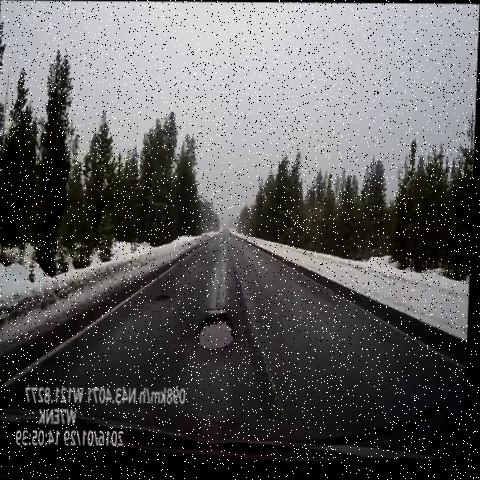pothole: (191, 302, 246, 370), (149, 286, 177, 306)
